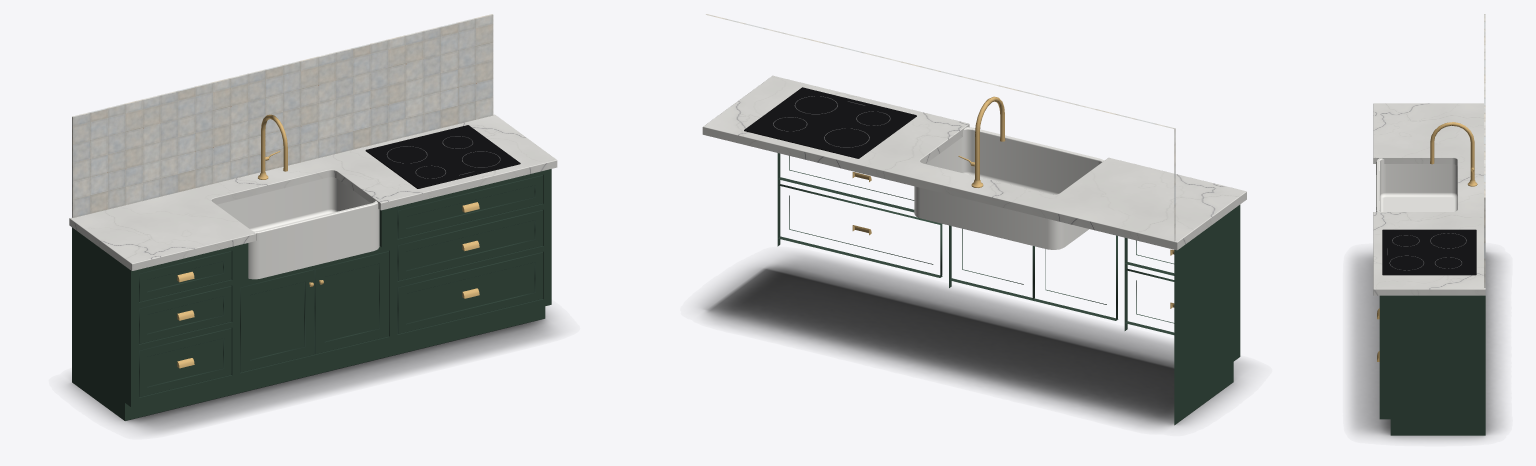
The model's file is kitchen_base.glb.
3 renders of one model, left to right at view 1: azimuth 30°, elevation 25°; view 2: azimuth 150°, elevation 25°; view 3: azimuth 270°, elevation 25°, orthographic. The views are drawn at different scales.
Visible parts, largest first — view 1: kitchen_base_LOD0, kitchen_base_Shadow; view 2: kitchen_base_LOD0, kitchen_base_Shadow; view 3: kitchen_base_LOD0, kitchen_base_Shadow.
Boxes of the visible parts, x1,y1,x2,y2 form: kitchen_base_LOD0: (69, 14, 557, 420); kitchen_base_Shadow: (67, 308, 556, 432); kitchen_base_LOD0: (702, 14, 1246, 425); kitchen_base_Shadow: (700, 254, 1246, 428); kitchen_base_LOD0: (1373, 14, 1485, 435); kitchen_base_Shadow: (1351, 251, 1502, 440).
Size of what is drawn, in the model's own units: 2.83 by 1.45 by 1.02.
10 materials, 3 textured.
